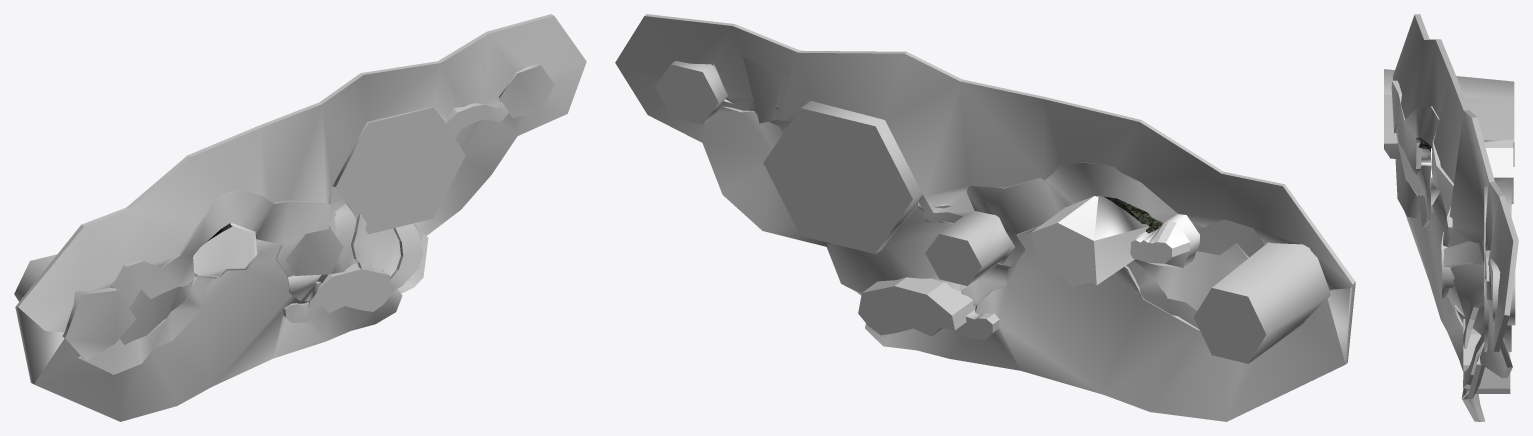
File: leveldesign10.fbx
3 renders of one model, left to right at view 1: azimuth 30°, elevation 25°; view 2: azimuth 150°, elevation 25°; view 3: azimuth 270°, elevation 25°, orthographic. The views are drawn at different scales.
Parts seen in each view (by area): view 1: middel_part, omrade_4, Stig_2, start, omrade_3, stig_1, omrade_1, slut, omrade_2, stig_4, stig_7, Stig_3 (+1 smaller); view 2: middel_part, omrade_4, start, omrade_1, Stig_2, omrade_3, omrade_2, slut, stig_1, Stig_3; view 3: middel_part, start, Stig_2, omrade_1, stig_1, omrade_3, omrade_4, Stig 6, slut, stig_5_, stig_4, omrade_2 (+2 smaller).
Boxes of the visible parts, bbox=[...] form: middel_part: bbox=[15, 14, 586, 421]; omrade_4: bbox=[332, 107, 465, 234]; Stig_2: bbox=[110, 189, 332, 307]; start: bbox=[14, 254, 135, 360]; omrade_3: bbox=[283, 263, 392, 322]; stig_1: bbox=[78, 277, 212, 374]; omrade_1: bbox=[193, 223, 257, 278]; slut: bbox=[499, 63, 554, 117]; omrade_2: bbox=[286, 228, 343, 275]; stig_4: bbox=[390, 223, 423, 291]; stig_7: bbox=[444, 101, 509, 138]; Stig_3: bbox=[287, 274, 321, 301]; middel_part: bbox=[615, 14, 1355, 421]; omrade_4: bbox=[763, 101, 922, 253]; start: bbox=[1194, 242, 1330, 363]; omrade_1: bbox=[1031, 196, 1199, 287]; Stig_2: bbox=[966, 162, 1264, 266]; omrade_3: bbox=[858, 277, 999, 339]; omrade_2: bbox=[925, 210, 1014, 286]; slut: bbox=[655, 61, 727, 124]; stig_1: bbox=[1126, 260, 1199, 329]; Stig_3: bbox=[959, 263, 1010, 305]; middel_part: bbox=[1393, 14, 1518, 421]; start: bbox=[1384, 69, 1514, 166]; Stig_2: bbox=[1391, 80, 1453, 246]; omrade_1: bbox=[1421, 139, 1513, 213]; stig_1: bbox=[1395, 157, 1430, 227]; omrade_3: bbox=[1463, 319, 1510, 393]; omrade_4: bbox=[1484, 186, 1511, 351]; Stig 6: bbox=[1443, 235, 1484, 266]; slut: bbox=[1490, 259, 1515, 325]; stig_5_: bbox=[1463, 284, 1484, 348]; stig_4: bbox=[1463, 331, 1484, 389]; omrade_2: bbox=[1441, 232, 1454, 298].
Bounding box in the file's own units: 12062 × 5191 × 2011.
